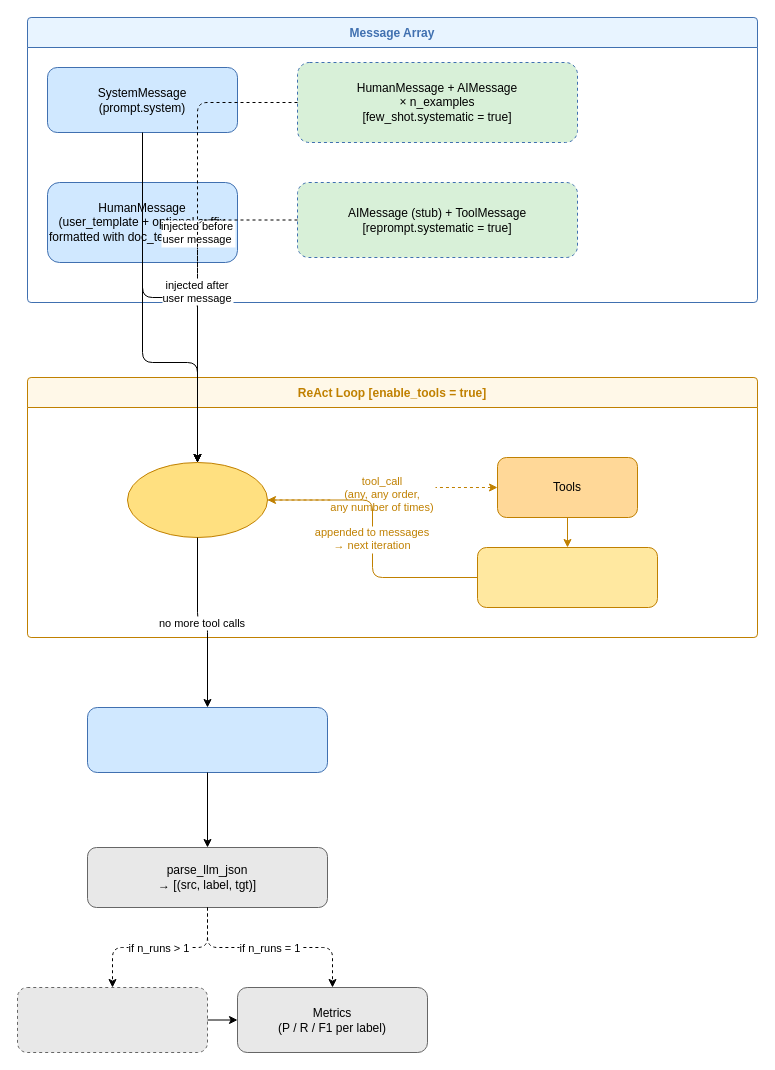
The diagram is 775 pixels wide and 1070 high, and some of its shapes have lost their labels. The shapes that lost their labels are listed below. From the top down, each one's centre as x and y in pixels, then its label:
the point at 197,500: LLM
the point at 567,577: ToolMessage (tool result)
the point at 207,739: Final AIMessage (chain-of-thought + JSON array)
the point at 112,1019: Vote aggregation (n_runs × resampling)
